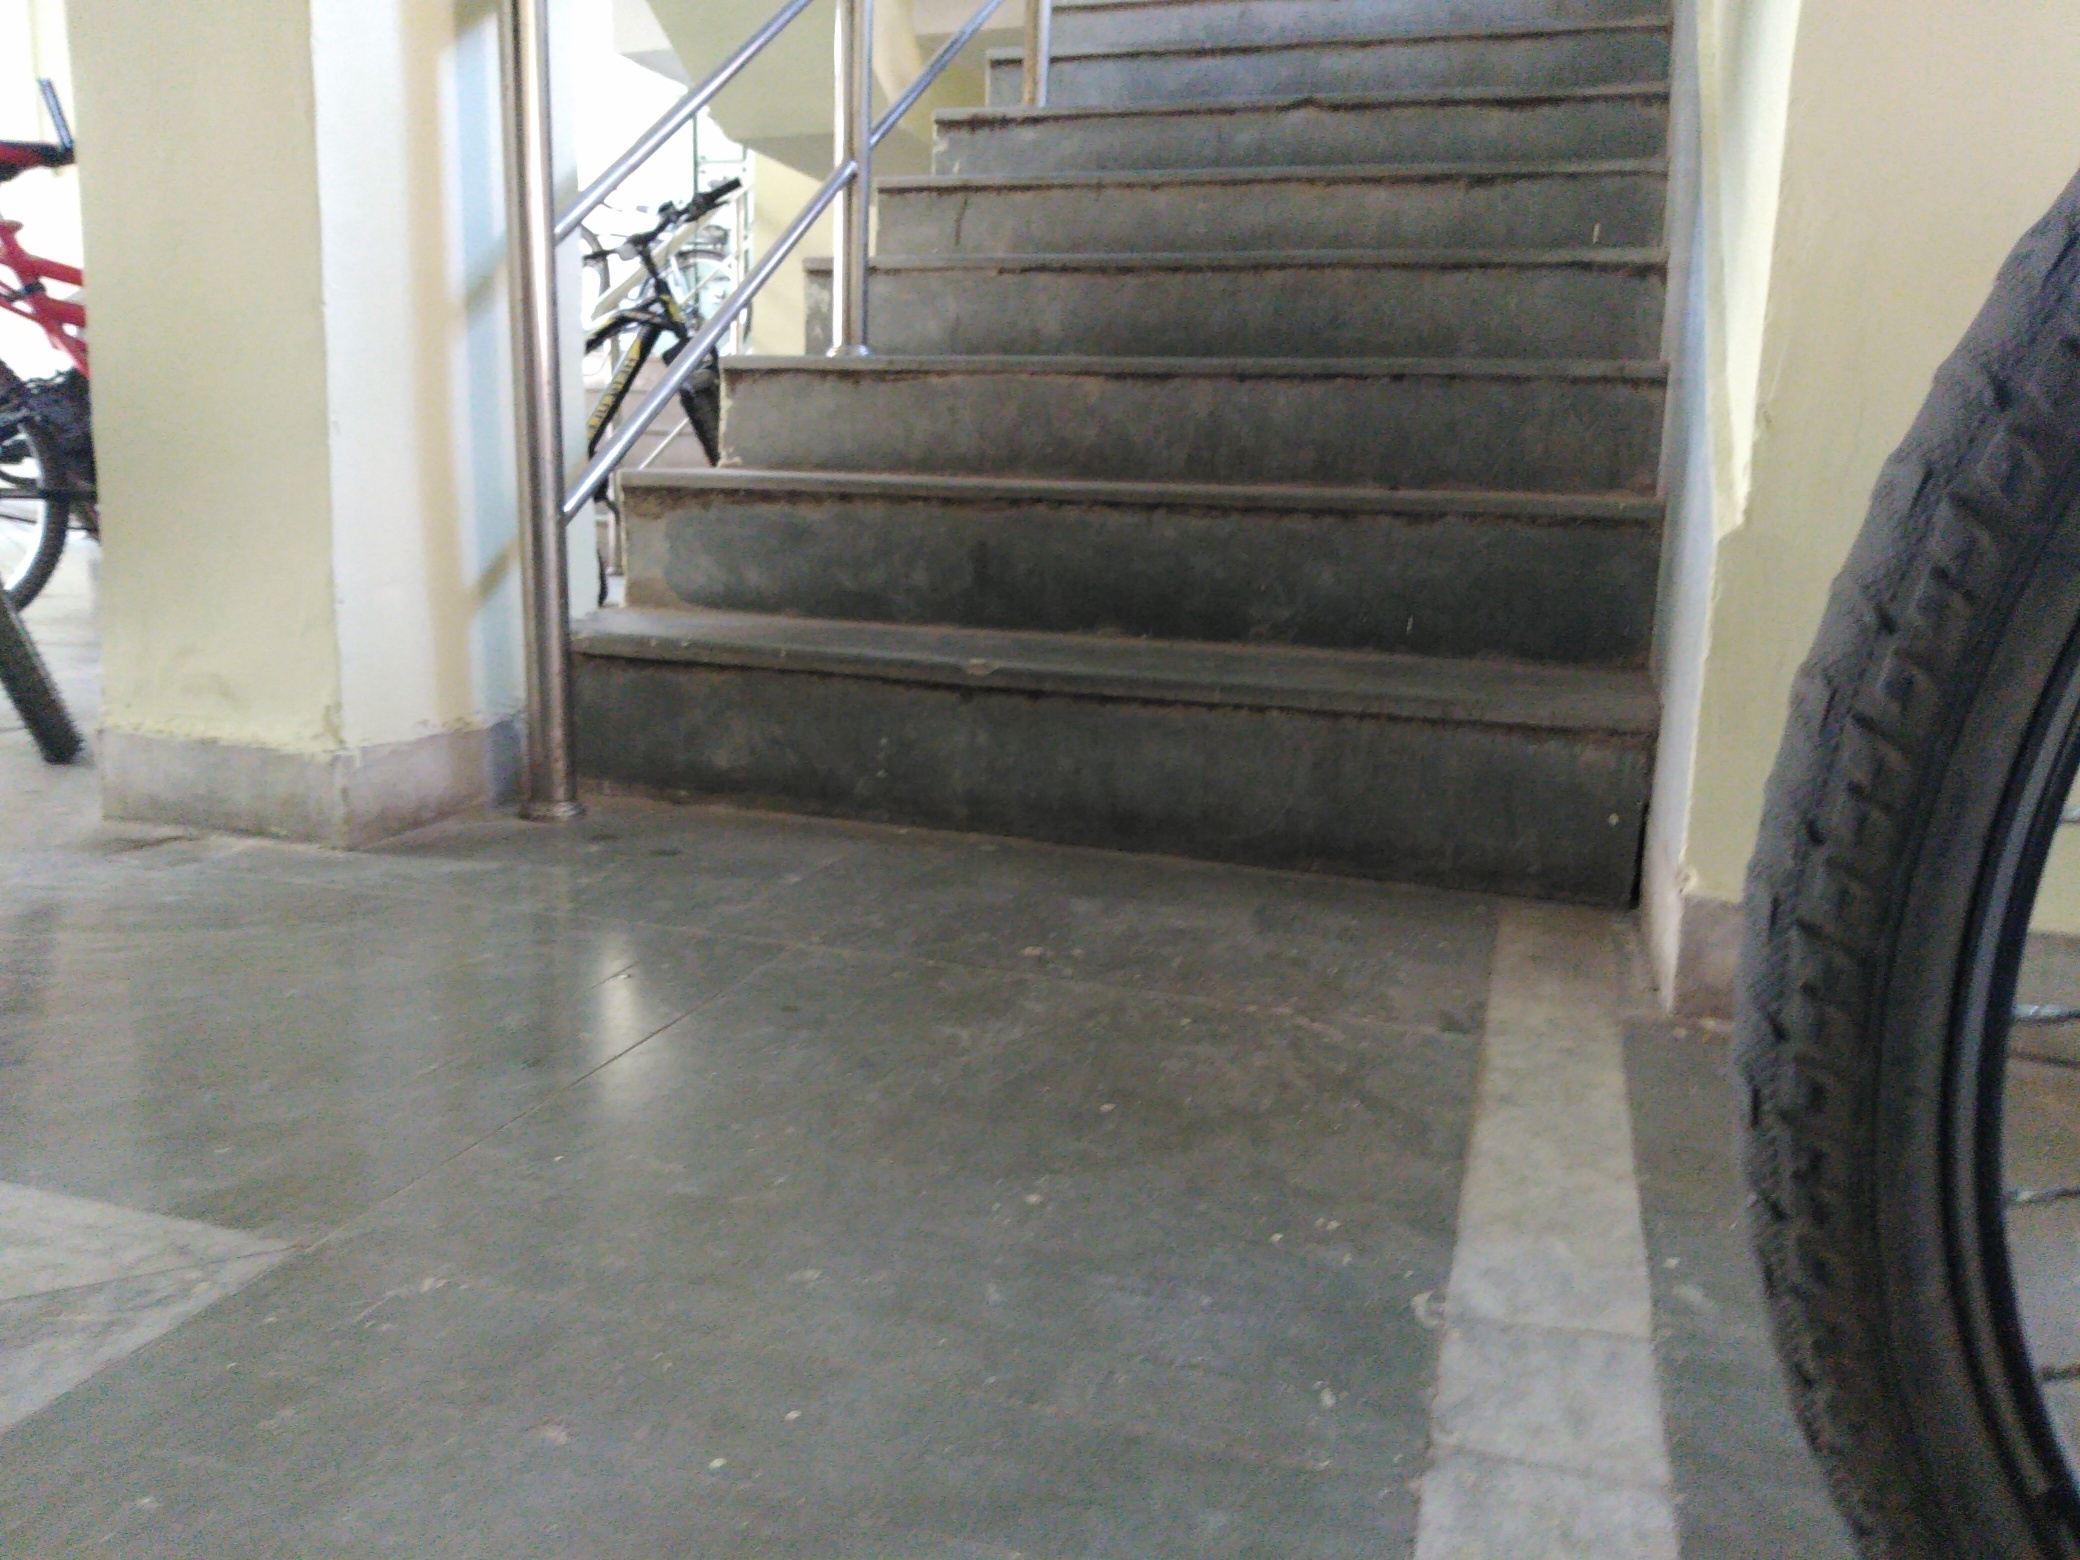stairs_up: (609, 2, 1657, 880)
